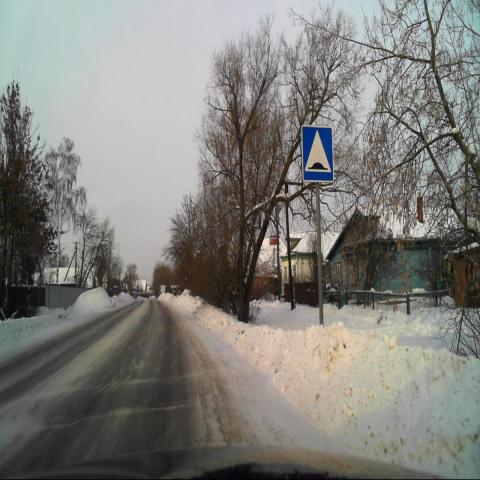5_20: (302, 125, 334, 183)
